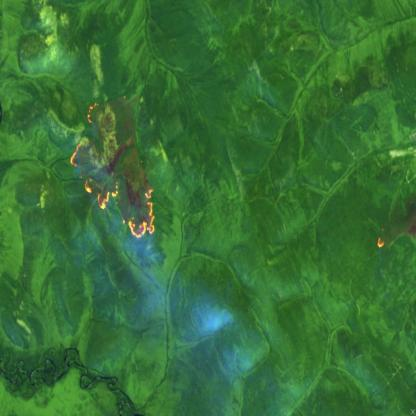fire: (73, 96, 160, 244), (374, 222, 388, 252)
